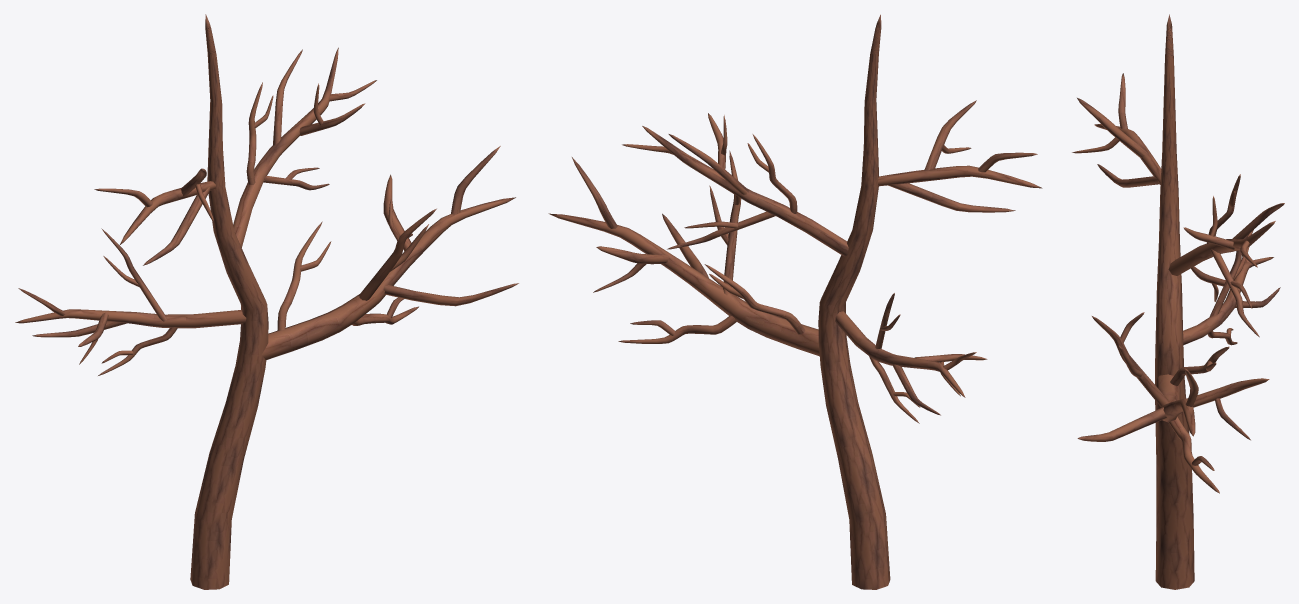
Rendered from deadtree_3.glb.
The picture shows the model from 3 angles, left to right: view 1: azimuth 30°, elevation 25°; view 2: azimuth 150°, elevation 25°; view 3: azimuth 270°, elevation 25°; orthographic projection.
Size of the model in its own units: 4.22 by 4.96 by 1.7.
Materials: 1 (1 with a texture image).
